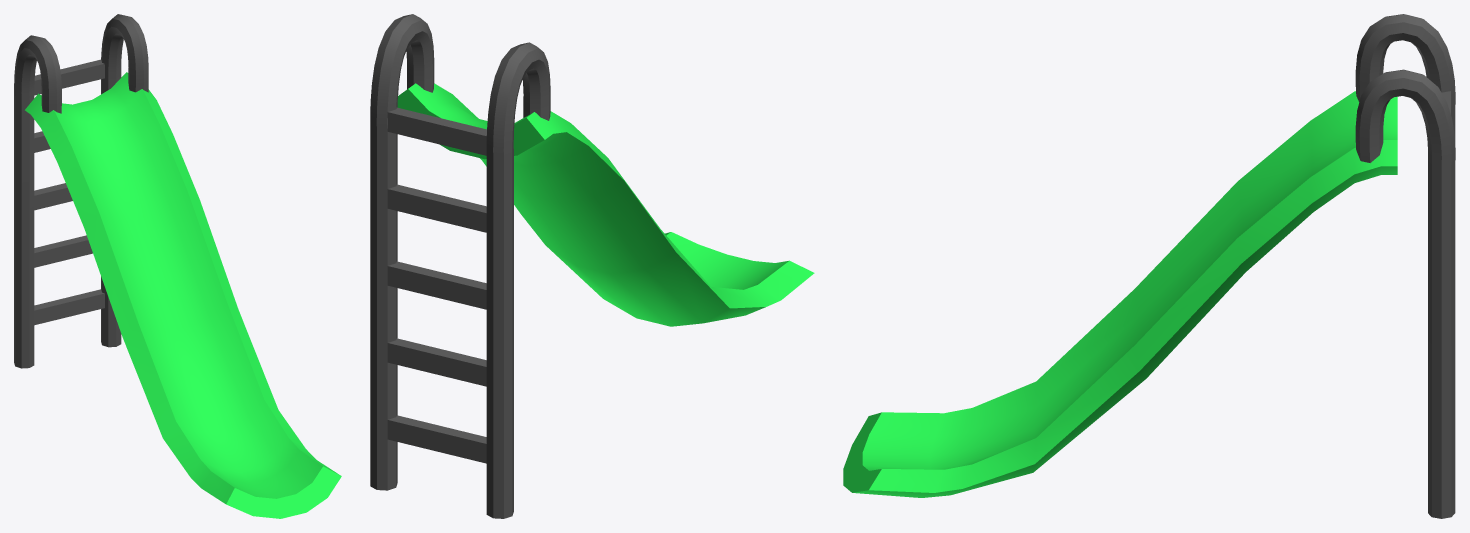
The model's file is Toboganeishon.FBX.
The picture shows the model from 3 angles, left to right: view 1: azimuth 30°, elevation 25°; view 2: azimuth 150°, elevation 25°; view 3: azimuth 270°, elevation 25°; orthographic projection. The views are drawn at different scales.
Visible parts, largest first — view 1: tobogan; view 2: tobogan; view 3: tobogan.
Boxes of the visible parts, bbox=[...] form: tobogan: bbox=[14, 14, 341, 518]; tobogan: bbox=[370, 14, 814, 518]; tobogan: bbox=[843, 14, 1455, 518].
Bounding box in the file's own units: 0.1272 × 0.3546 × 0.4441.
